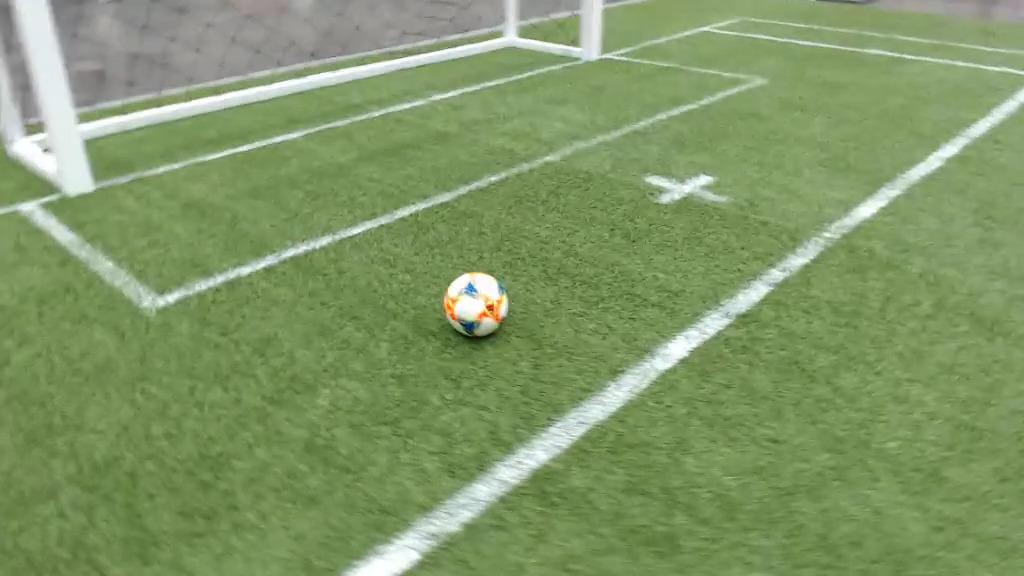ball: (445, 271, 508, 338)
